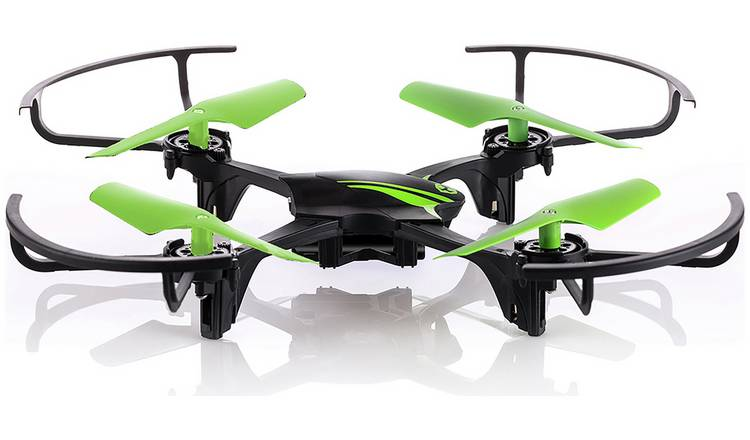drone: (4, 39, 747, 348)
